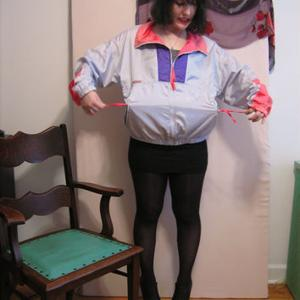C_jacket: (65, 20, 283, 150)
